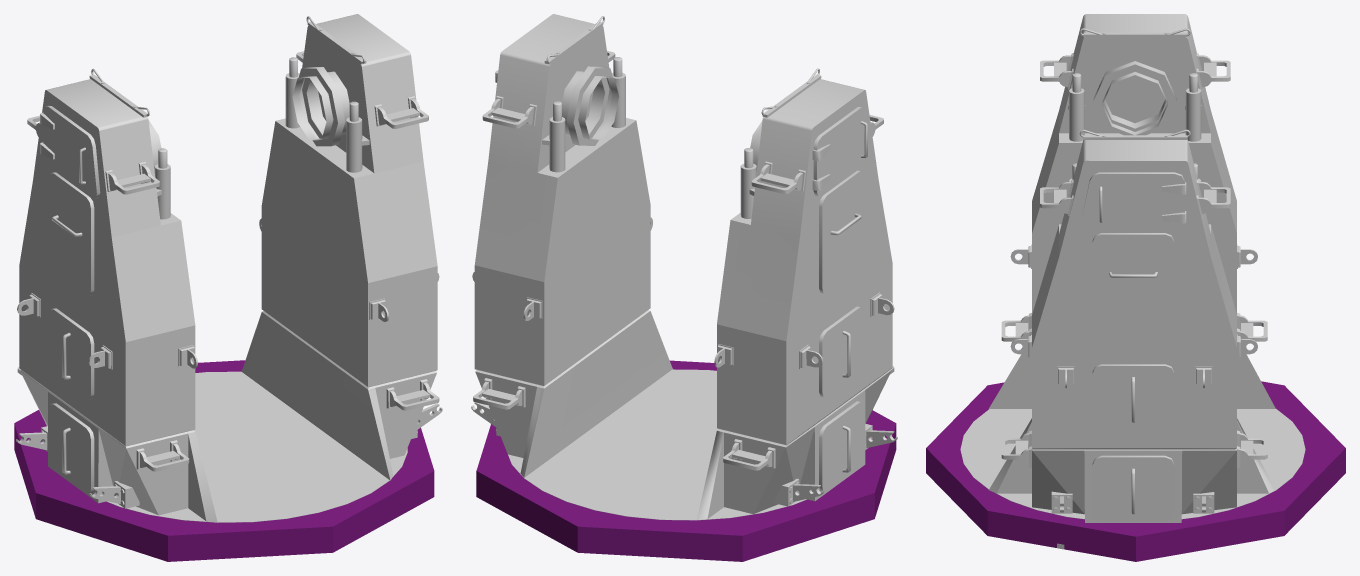
The model's file is Rim-116_Body_Dst.fbx.
3 renders of one model, left to right at view 1: azimuth 30°, elevation 25°; view 2: azimuth 150°, elevation 25°; view 3: azimuth 270°, elevation 25°, orthographic. The views are drawn at different scales.
Parts seen in each view (by area): view 1: RIM-116_Body_Dst_LOD0, UCL_Body; view 2: RIM-116_Body_Dst_LOD0, UCL_Body; view 3: RIM-116_Body_Dst_LOD0, UCL_Body.
Part boxes in pixels (x1,y1,x2,y2): RIM-116_Body_Dst_LOD0: [16, 14, 442, 522]; UCL_Body: [14, 360, 434, 561]; RIM-116_Body_Dst_LOD0: [471, 14, 897, 520]; UCL_Body: [476, 360, 896, 561]; RIM-116_Body_Dst_LOD0: [960, 14, 1305, 549]; UCL_Body: [926, 381, 1345, 561].
Size of what is drawn, in the model's own units: 200 by 208 by 200.
